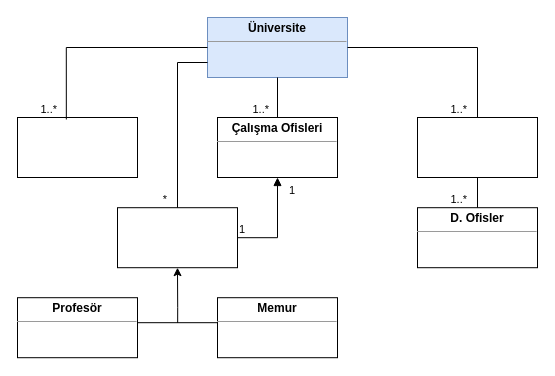
This 555x376 diagram has some shape labels left out. Each missing label, with the centre of its shape:
Departmanlar: point 477,147
Sınıflıklar: point 77,147
Çalışanlar: point 177,237
